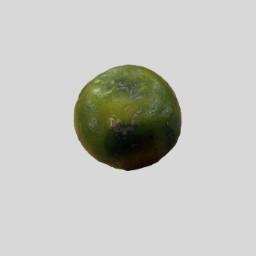Unripe: (77, 65, 182, 170)
